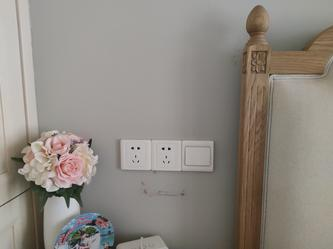switch: (184, 144, 212, 167)
